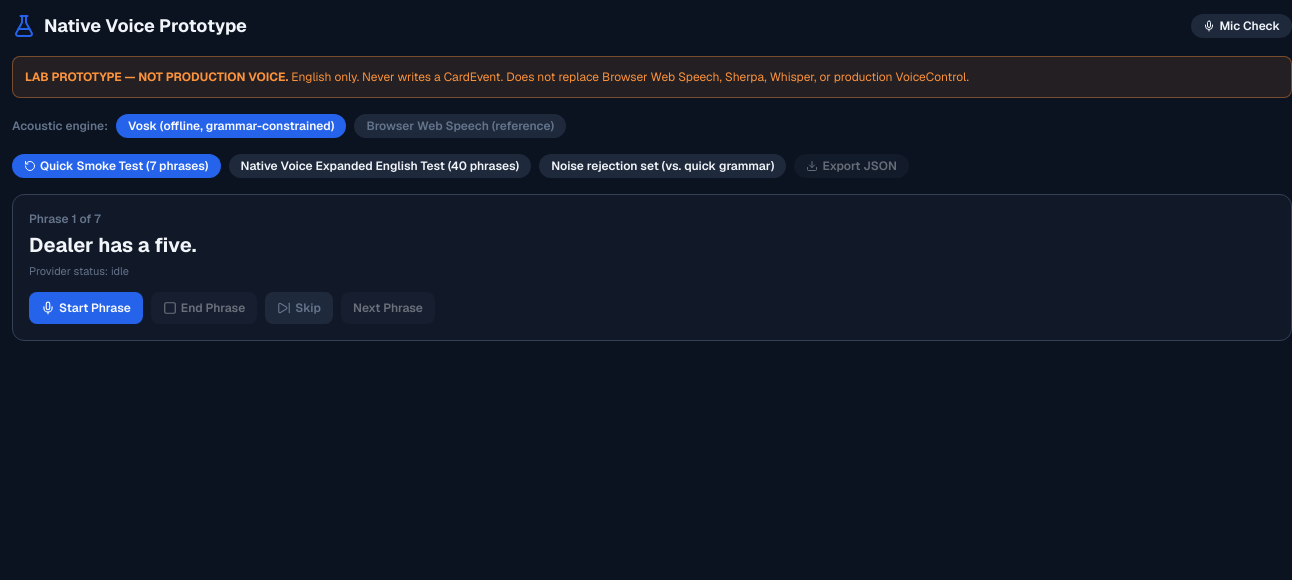
Test case: Native Voice Prototype Lab page › PROVIDER SWITCHING: switching from Vosk to Browser Web Speech resets the phrase run to Phrase 1 and clears the highlighted engine, never bleeding state across p
This screenshot has width=1292, height=580.
What coordinates should you click on to do the following:
click the button "Skip"
I would click on:
 (299, 308)
Its box is [265,292,333,324].
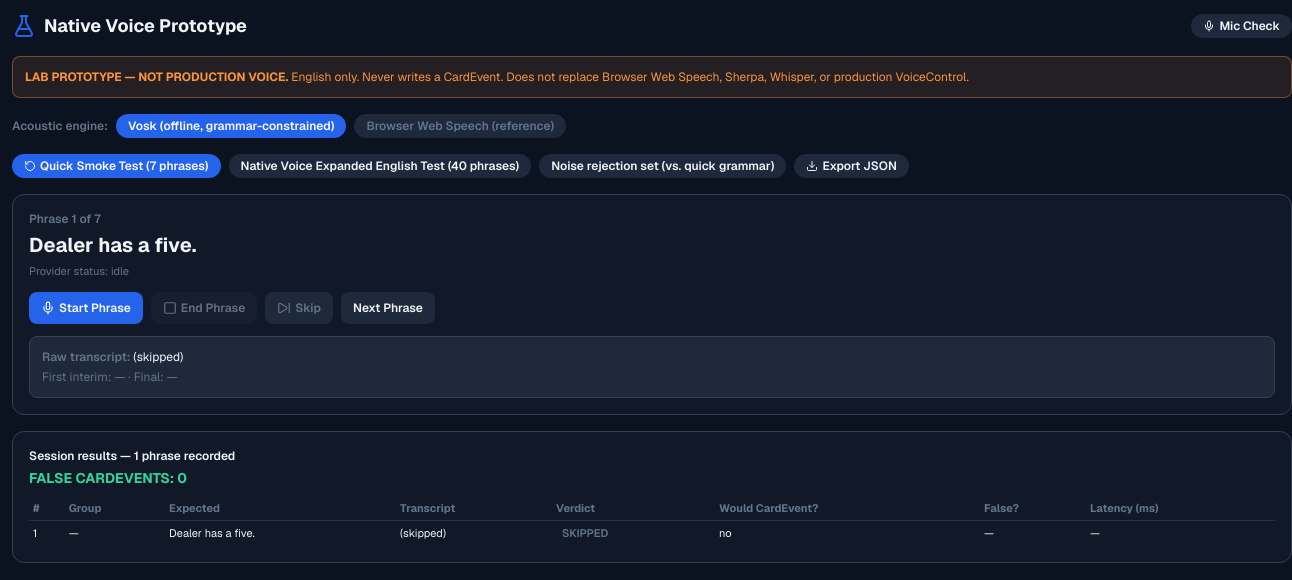
What coordinates should you click on to do the following:
click the button "Next Phrase"
I would click on:
 (388, 308)
Its box is [341,292,435,324].
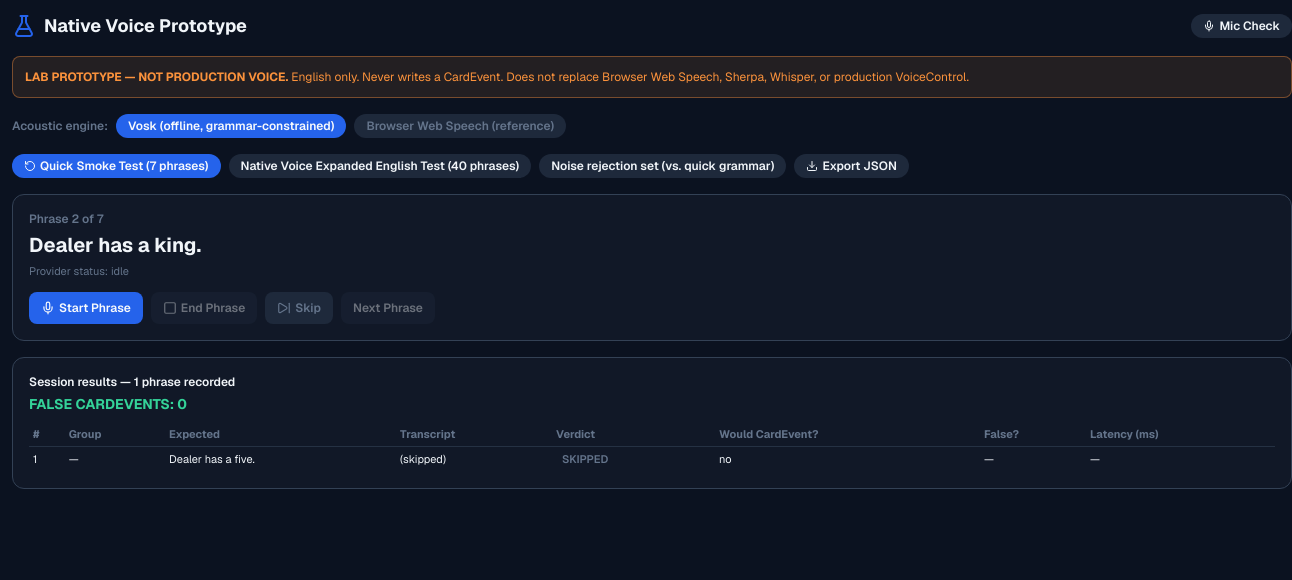
Result: the text "Phrase 2 of 7" is shown at [29,211,103,227]
What coordinates should you click on to do the following:
click the button "Browser Web Speech (reference)"
I would click on:
 (460, 126)
Its box is [354,114,566,138].
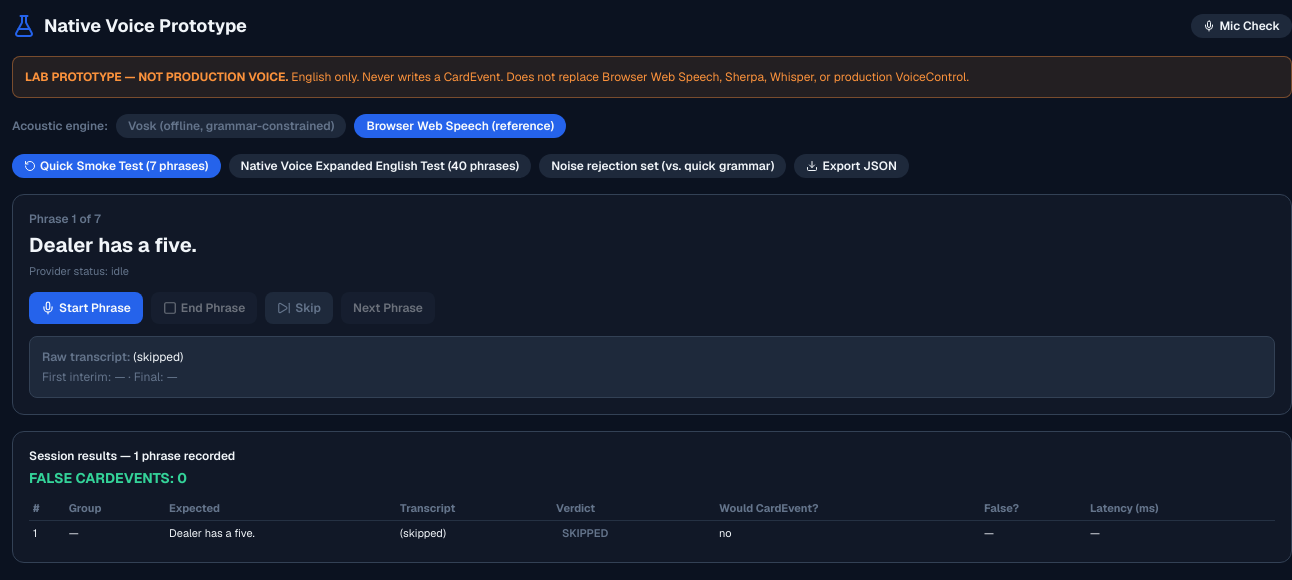
Result: the text "Phrase 1 of 7" is shown at [29,211,101,227]
